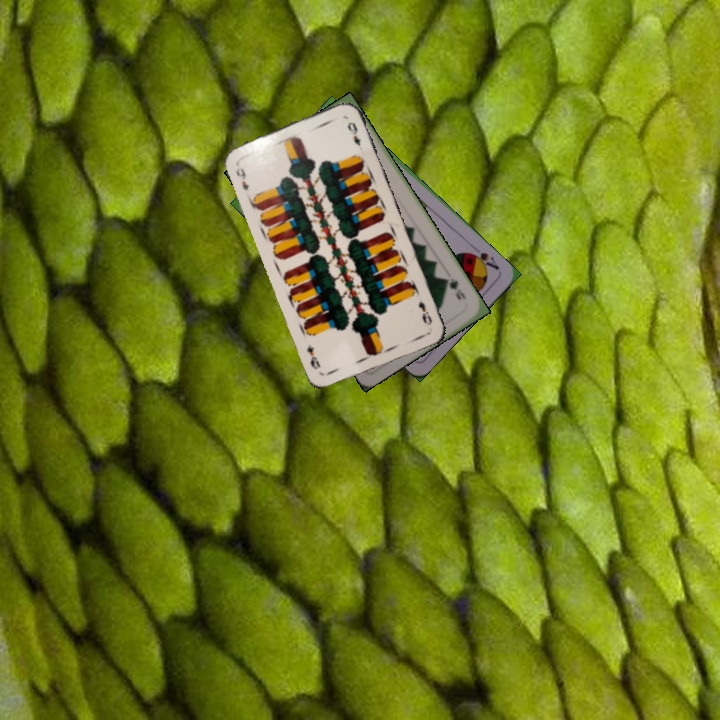E9: (414, 297, 435, 328), (232, 163, 252, 193)
G9: (440, 274, 469, 303)
SA: (465, 248, 502, 273)
